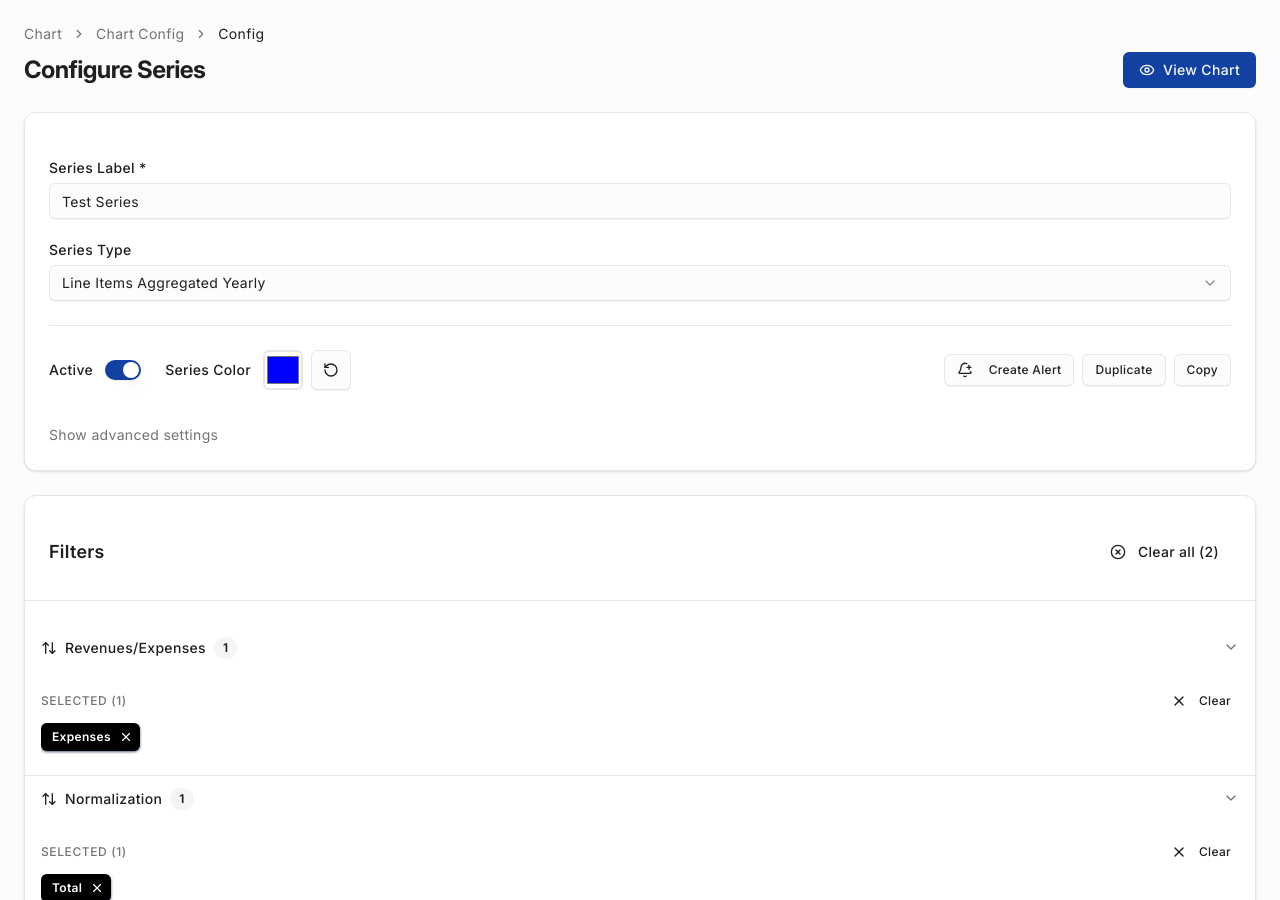
Test case: SeriesConfigView › advanced settings › toggles to hide advanced settings when clicked
Click the button "Show advanced settings": (134,435) x1=49 y1=425 x2=218 y2=445
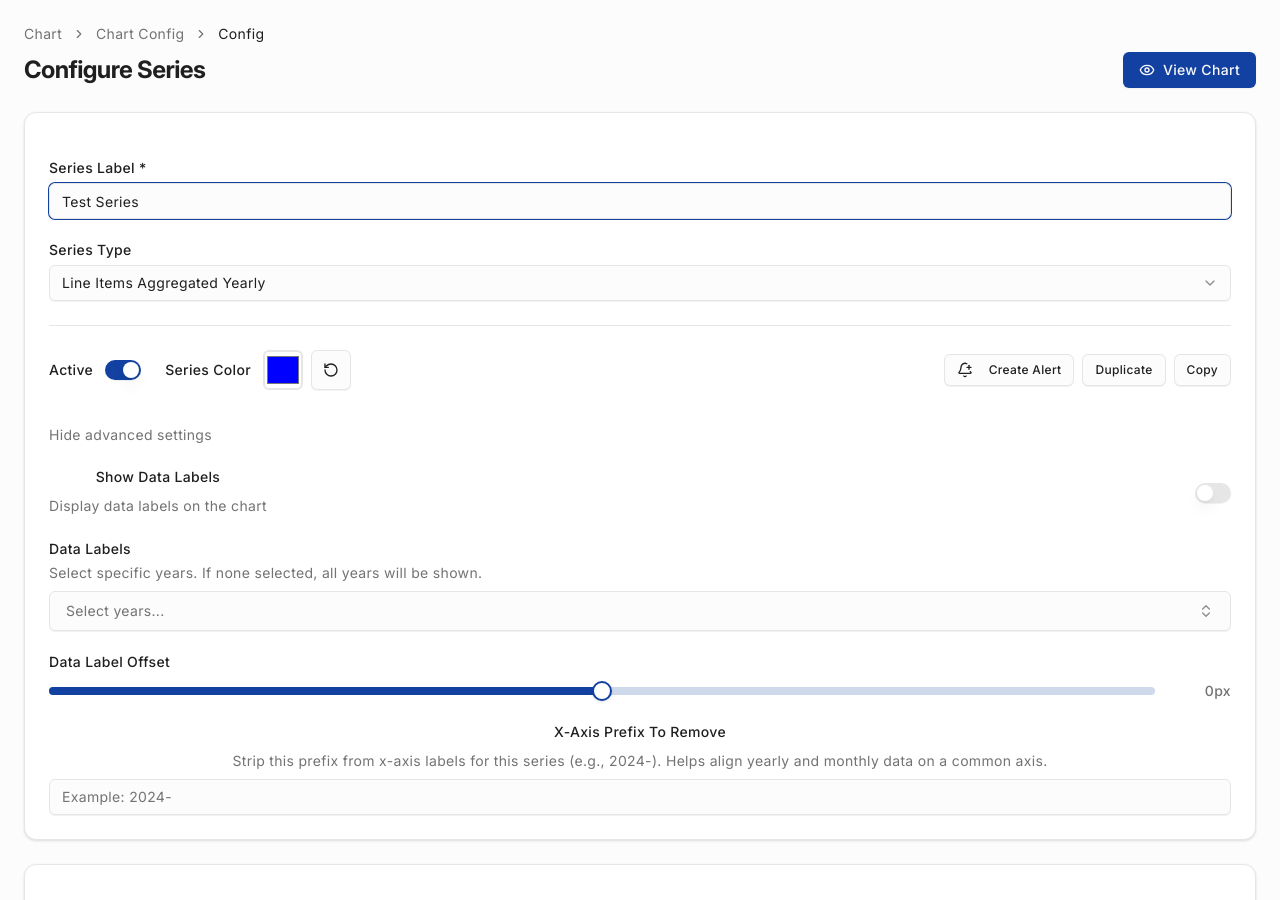
Expected: the button "Hide advanced settings" is shown, x1=49 y1=425 x2=212 y2=445
